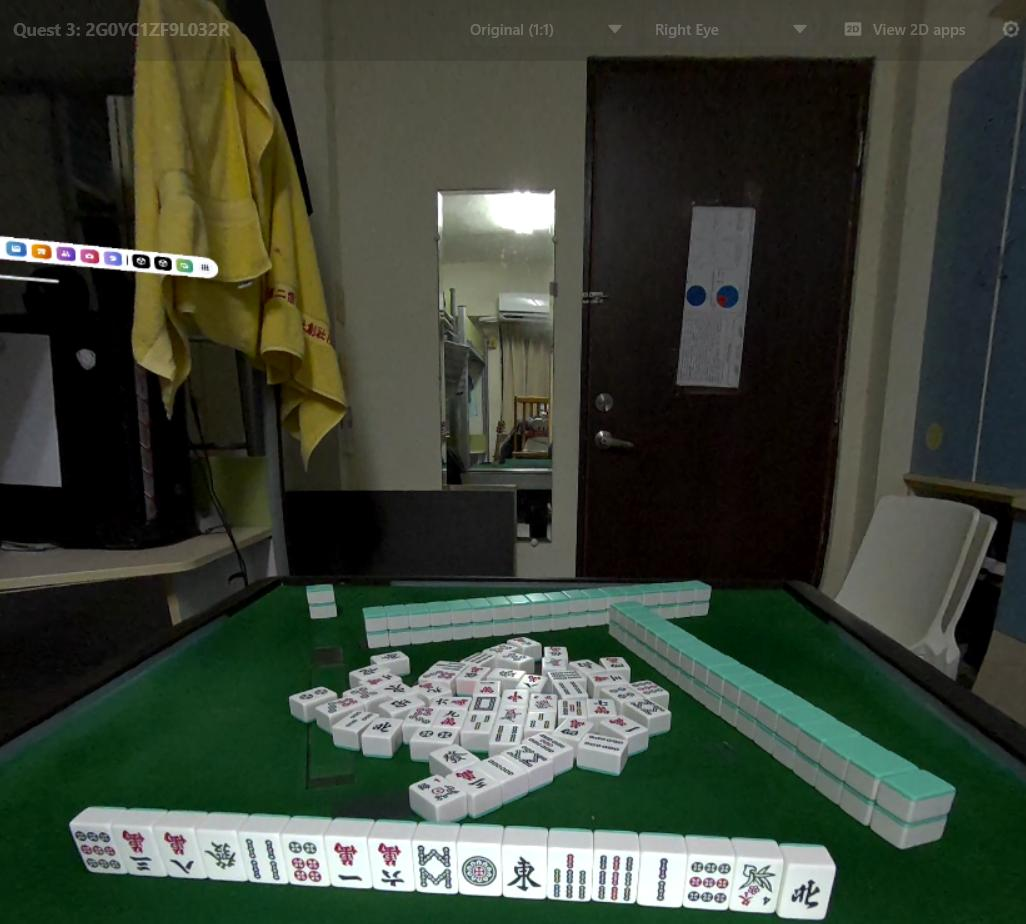mahjong: (64, 820, 124, 875), (590, 849, 640, 907), (781, 863, 834, 917), (319, 835, 371, 890), (684, 852, 733, 910), (736, 855, 783, 915), (411, 836, 457, 894), (547, 847, 593, 903), (279, 829, 322, 888), (370, 835, 413, 894), (239, 832, 285, 887), (116, 825, 163, 875), (159, 825, 201, 879), (457, 843, 501, 894), (196, 830, 240, 880), (506, 846, 546, 898), (643, 857, 684, 905)
